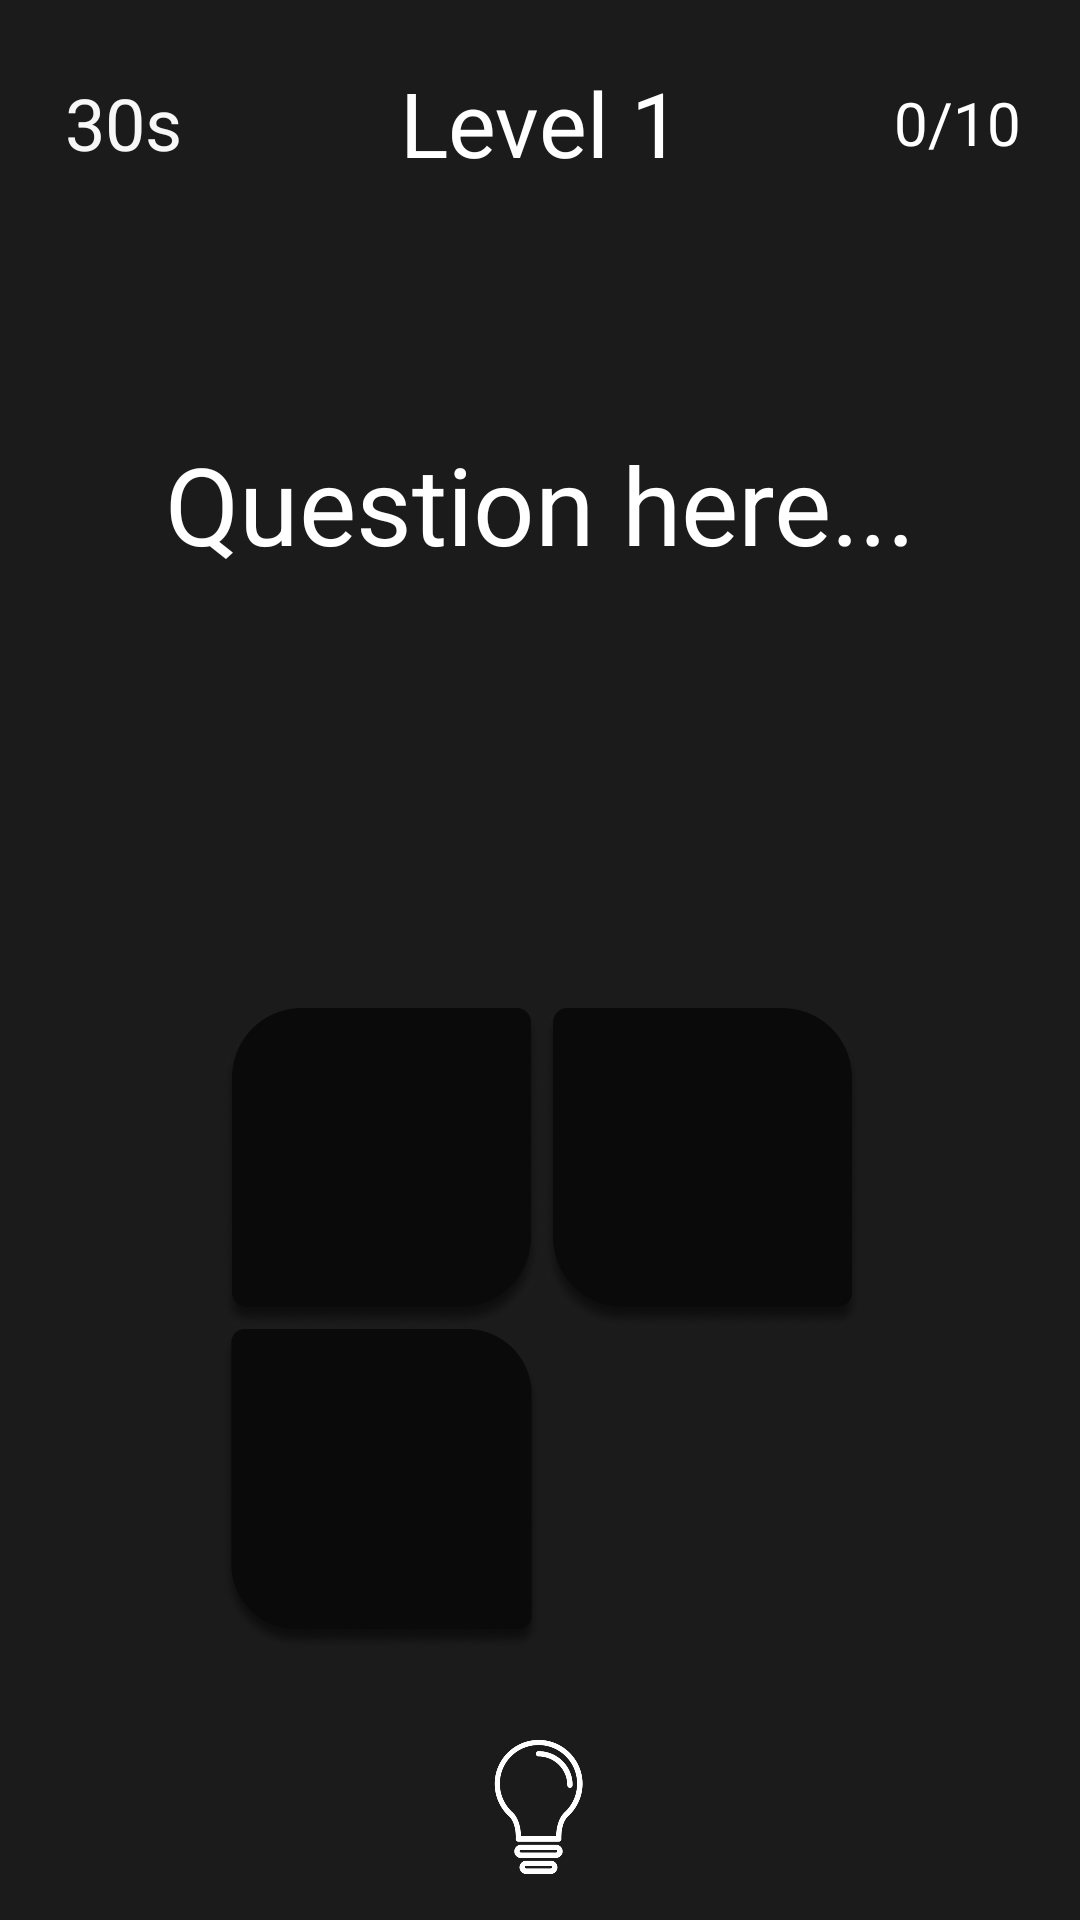

Named icons in this screenshot (1080*1920) and their bounding boxes, (x1, y1, x2, y2):
bulb: (494, 1740, 583, 1874)
